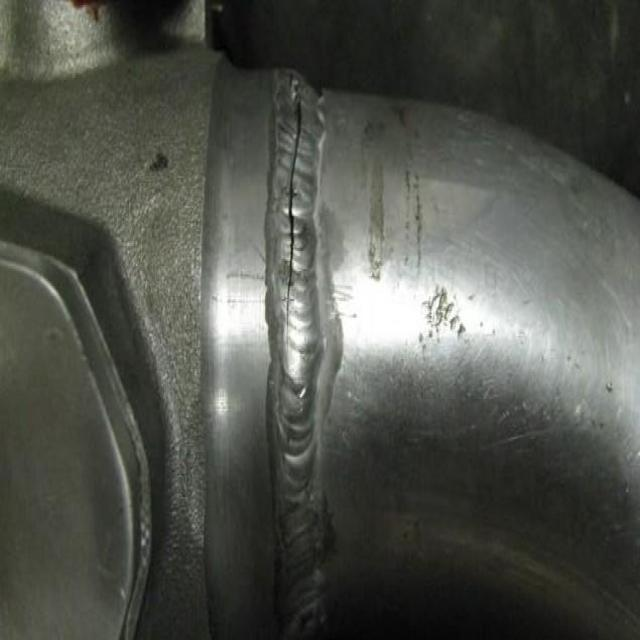defect: (285, 78, 304, 355)
